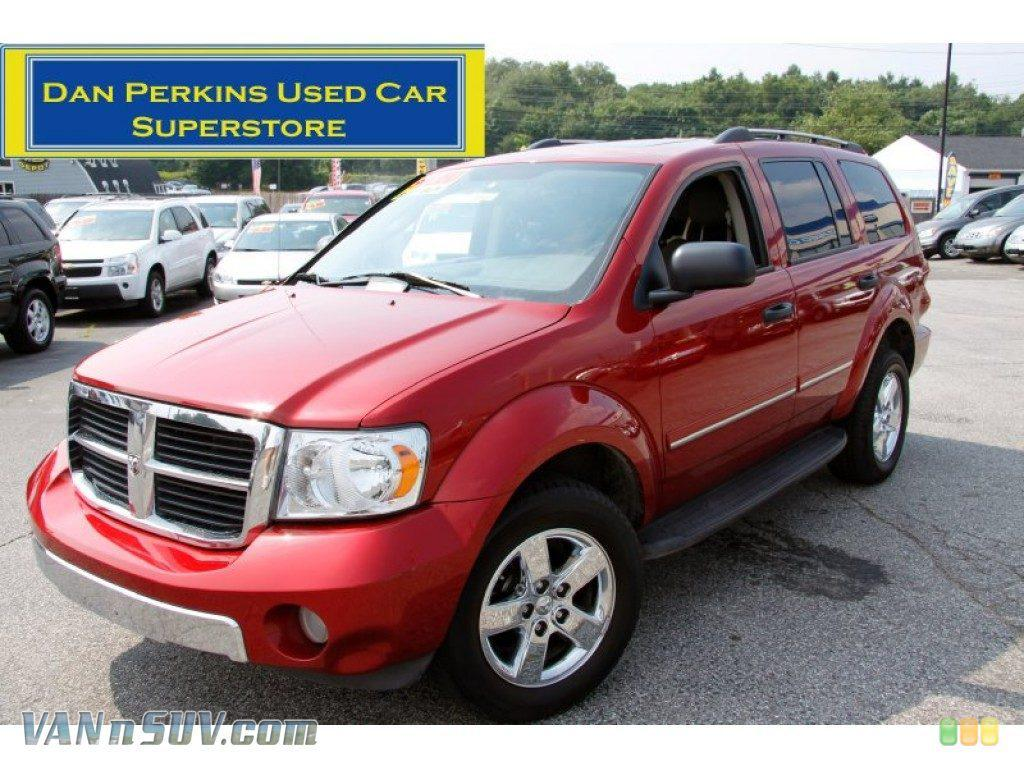Car: (22, 111, 956, 726), (39, 191, 237, 336), (212, 201, 352, 326)
